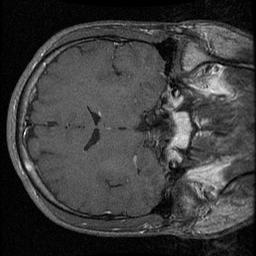pituitary tumour: (157, 87, 192, 171)
